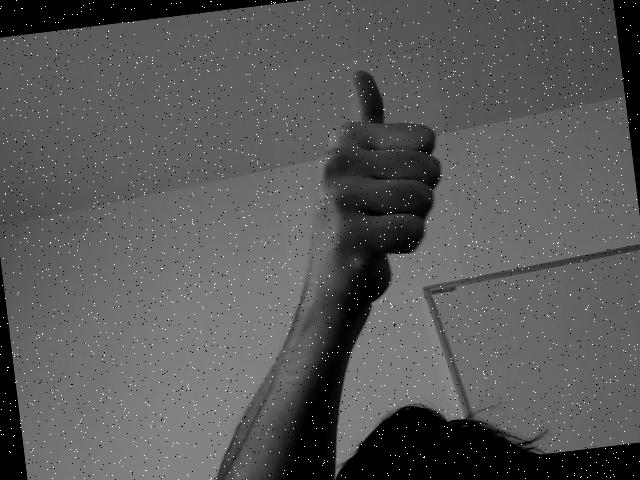good: (290, 56, 443, 304)
